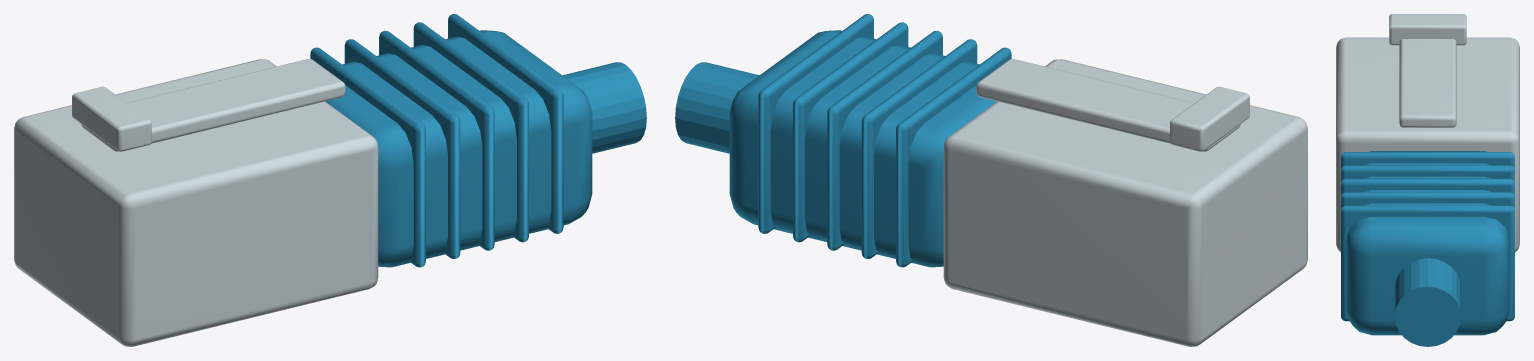
The model's file is RJ45Plug.fbx.
The picture shows the model from 3 angles, left to right: view 1: azimuth 30°, elevation 25°; view 2: azimuth 150°, elevation 25°; view 3: azimuth 270°, elevation 25°; orthographic projection. The views are drawn at different scales.
Parts seen in each view (by area): view 1: SM_RJ45Plug; view 2: SM_RJ45Plug; view 3: SM_RJ45Plug.
Part boxes in pixels (x1,y1,x2,y2): SM_RJ45Plug: [14, 14, 646, 346]; SM_RJ45Plug: [675, 14, 1307, 346]; SM_RJ45Plug: [1336, 14, 1519, 346].
Size of the model in its own units: 325 by 116 by 107.
